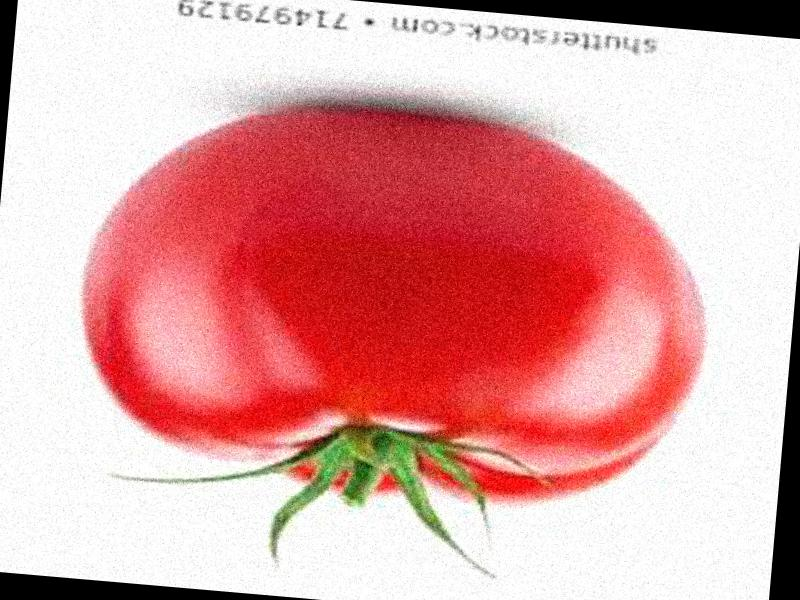Tomato: (68, 89, 723, 516)
